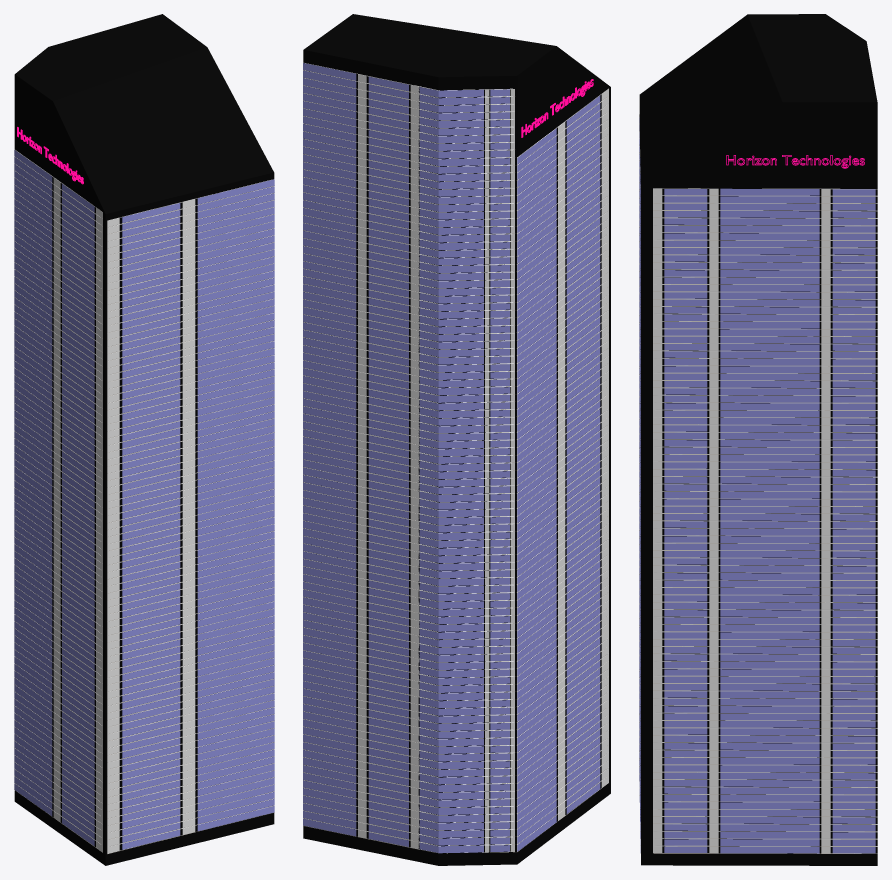
The model's file is 11PalmStreet.fbx.
The picture shows the model from 3 angles, left to right: view 1: azimuth 30°, elevation 25°; view 2: azimuth 150°, elevation 25°; view 3: azimuth 270°, elevation 25°; orthographic projection. The views are drawn at different scales.
Visible parts, largest first — view 1: Window.003, Window.002, 11PalmStreet_LOD0, HORIZONTECHNOLOGIESSOUTH; view 2: Window, Window.001, Window.002, 11PalmStreet_LOD0, HORIZONTECHNOLOGIESSOUTH; view 3: Window.004, 11PalmStreet_LOD0, Window.003, HORIZONTECHNOLOGIESNORTH.
Part boxes in pixels (x1,y1,x2,y2): Window.003: (107,179,274,853); Window.002: (14,149,102,852); 11PalmStreet_LOD0: (14,14,274,865); HORIZONTECHNOLOGIESSOUTH: (17,127,83,184); Window: (303,62,419,849); Window.001: (414,85,514,853); Window.002: (517,88,608,851); 11PalmStreet_LOD0: (303,14,610,865); HORIZONTECHNOLOGIESSOUTH: (521,79,593,137); Window.004: (653,188,877,853); 11PalmStreet_LOD0: (639,14,877,865); Window.003: (639,114,640,852); HORIZONTECHNOLOGIESNORTH: (726,155,864,168).
Size of the model in its own units: 5299 by 21078 by 5966.
